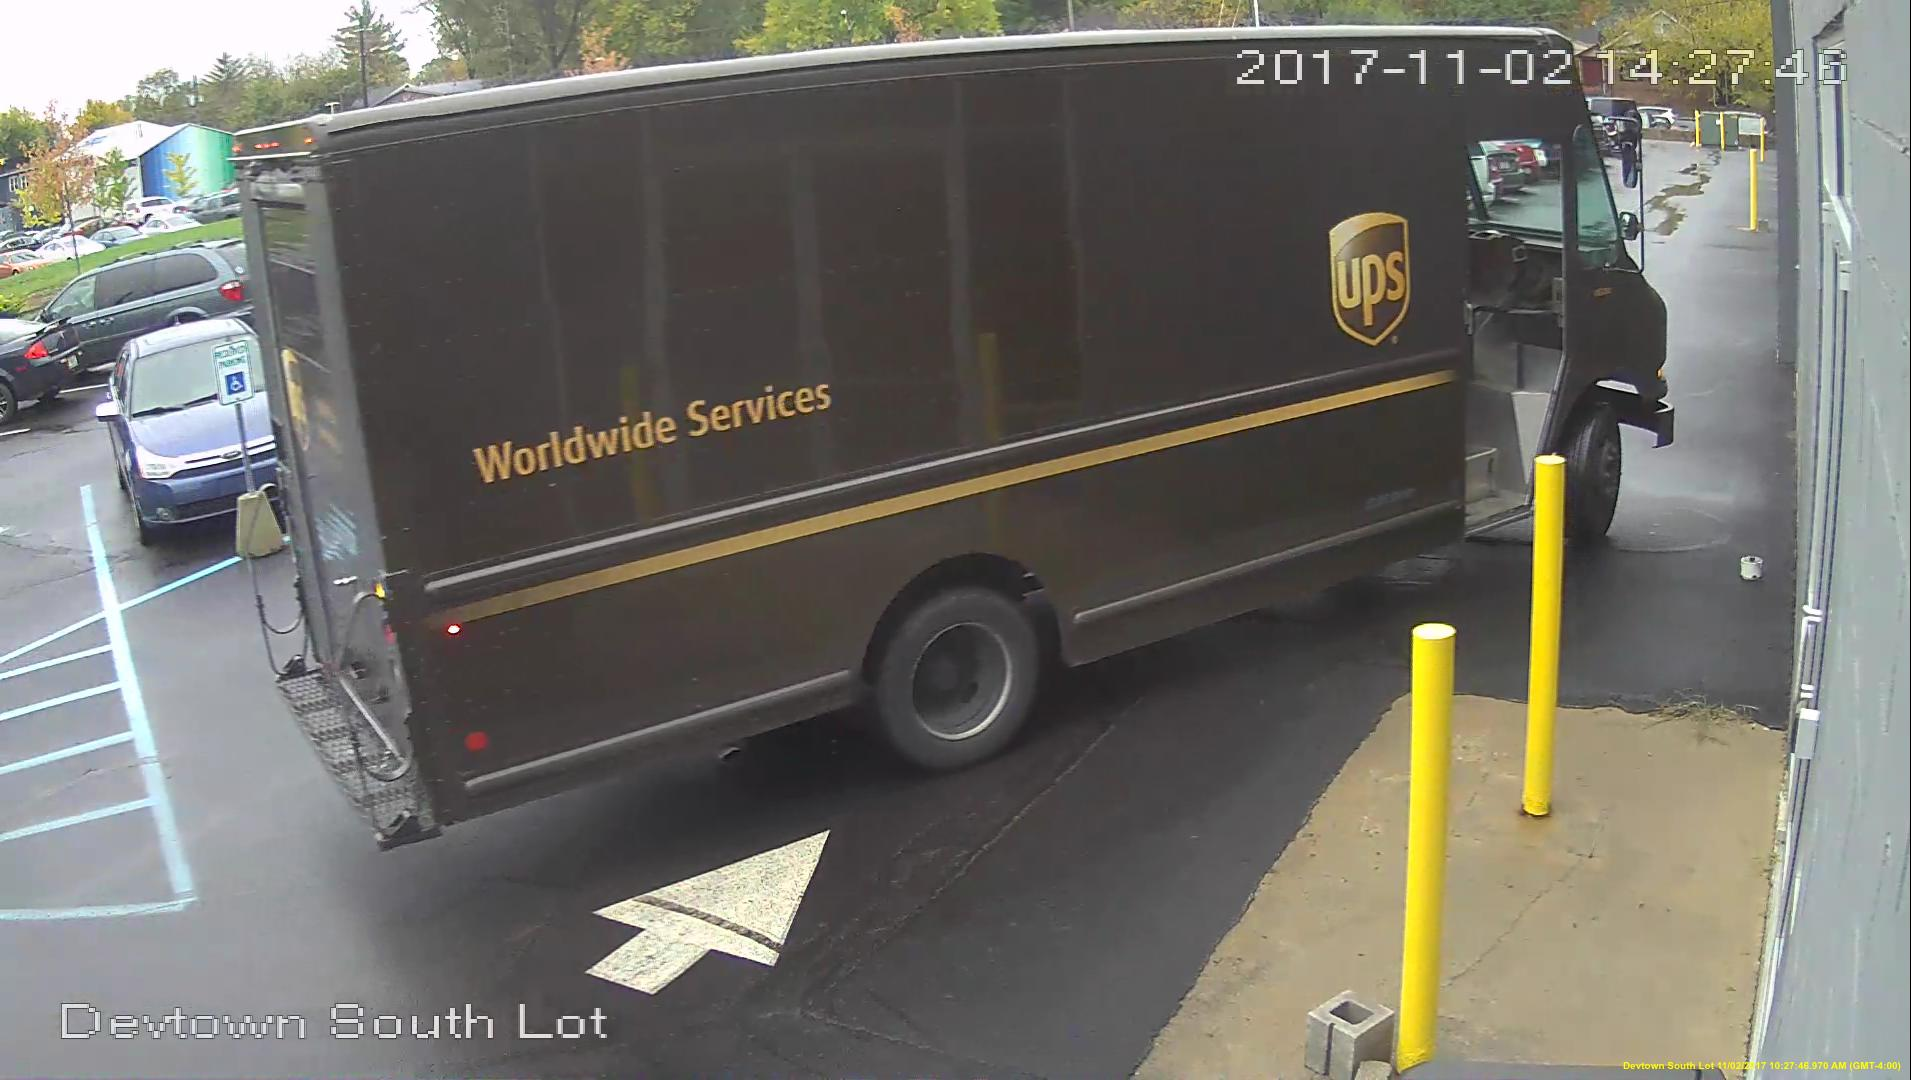ups_truck: (235, 24, 1668, 849)
